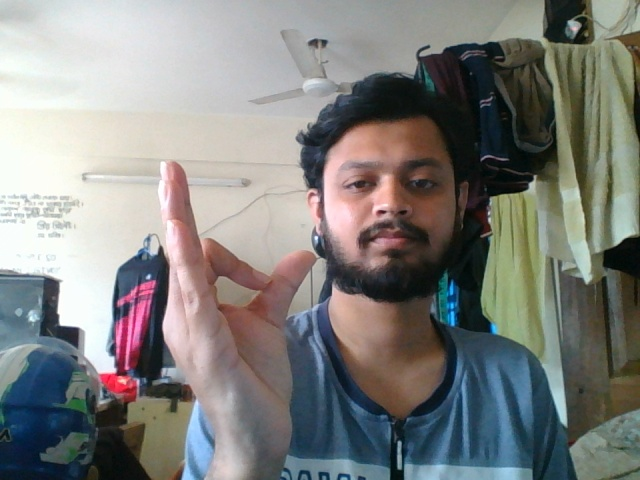uo: (151, 156, 319, 467)
